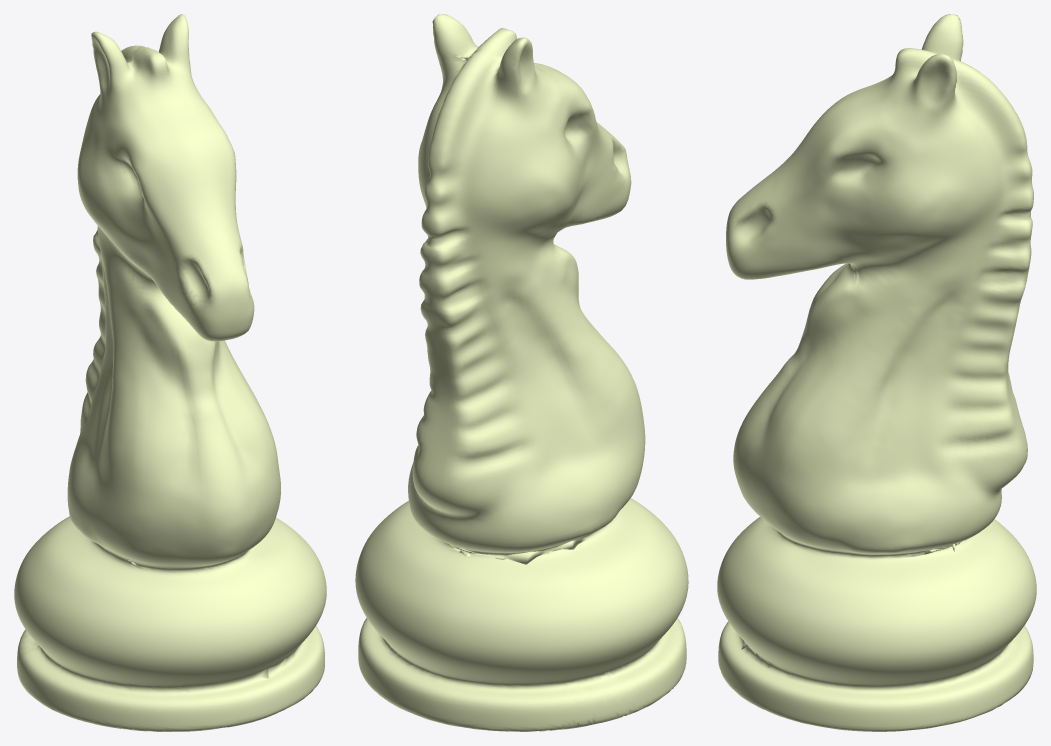
Rendered from Knight.fbx.
3 views of the same model, side by side, from view 1: azimuth 30°, elevation 25°; view 2: azimuth 150°, elevation 25°; view 3: azimuth 270°, elevation 25° (orthographic). The views are drawn at different scales.
Visible parts, largest first — view 1: Knight.002; view 2: Knight.002; view 3: Knight.002.
Part boxes in pixels (x1=…): Knight.002: x1=14, y1=14, x2=326, y2=731; Knight.002: x1=355, y1=14, x2=688, y2=731; Knight.002: x1=717, y1=14, x2=1036, y2=731.
Bounding box in the file's own units: 3.17 × 6.94 × 3.16.
